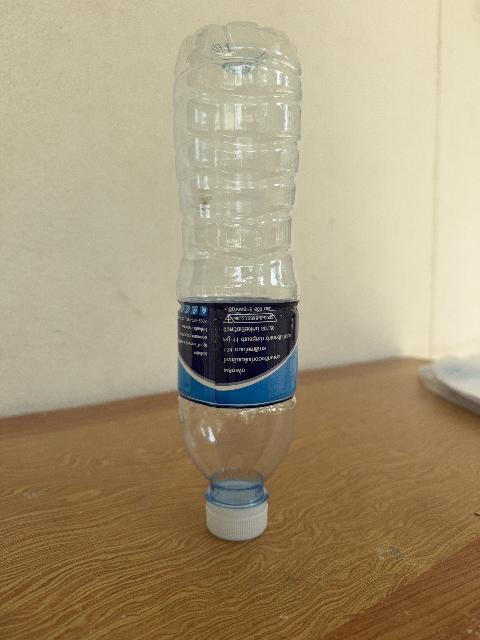bottle: (173, 22, 300, 539)
